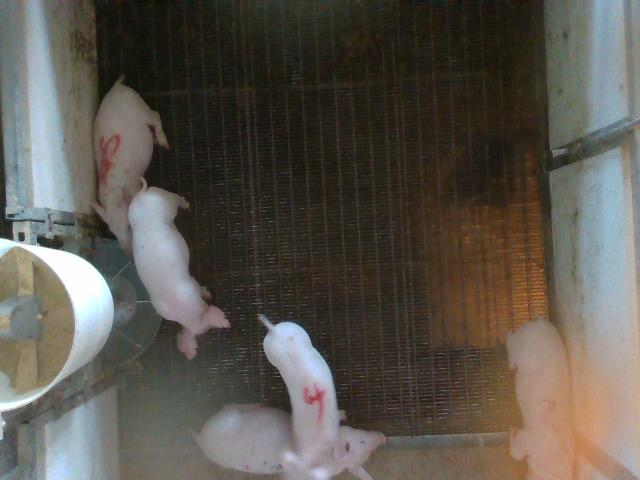pig-2: (506, 318, 574, 479)
pig-3: (194, 404, 385, 479)
pig-4: (259, 315, 340, 475)
pig-5: (94, 76, 169, 251)
